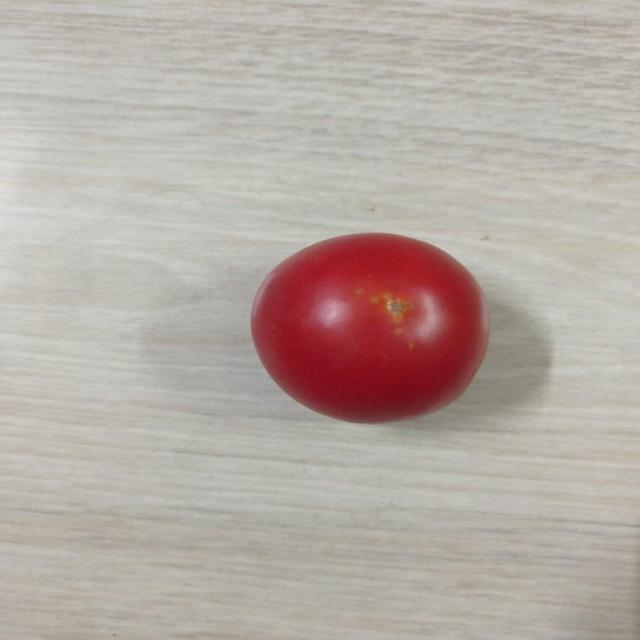Tomato: (251, 219, 494, 427)
